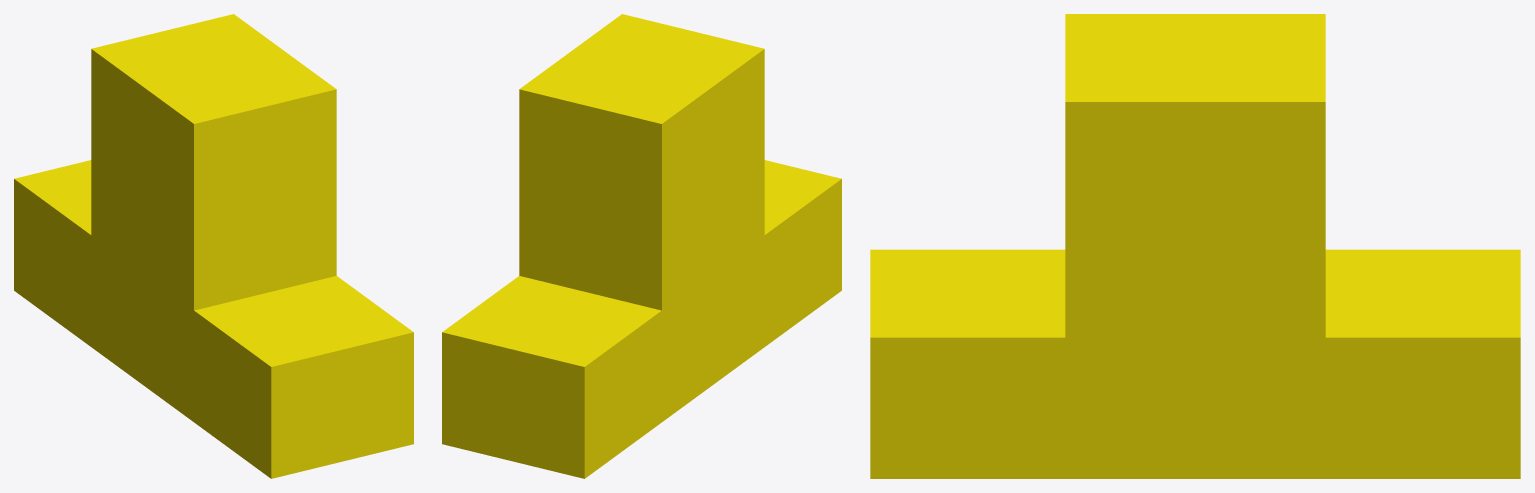
File: modelo_didático_4.glb
3 views of the same model, side by side, from view 1: azimuth 30°, elevation 25°; view 2: azimuth 150°, elevation 25°; view 3: azimuth 270°, elevation 25° (orthographic). The views are drawn at different scales.
Visible parts, largest first — view 1: Modelo didatico 4.SLDPRT; view 2: Modelo didatico 4.SLDPRT; view 3: Modelo didatico 4.SLDPRT.
Part boxes in pixels (<box>): Modelo didatico 4.SLDPRT: <box>14,14,413,478</box>; Modelo didatico 4.SLDPRT: <box>442,14,841,478</box>; Modelo didatico 4.SLDPRT: <box>870,14,1520,478</box>.
Size of the model in its own units: 0.016 by 0.032 by 0.05.
